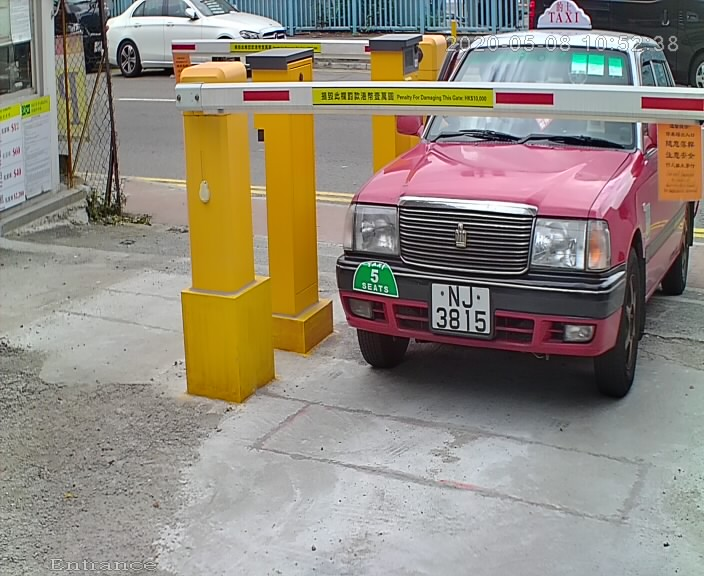taxi: (303, 2, 704, 382)
taxi_mark: (344, 252, 412, 307)
